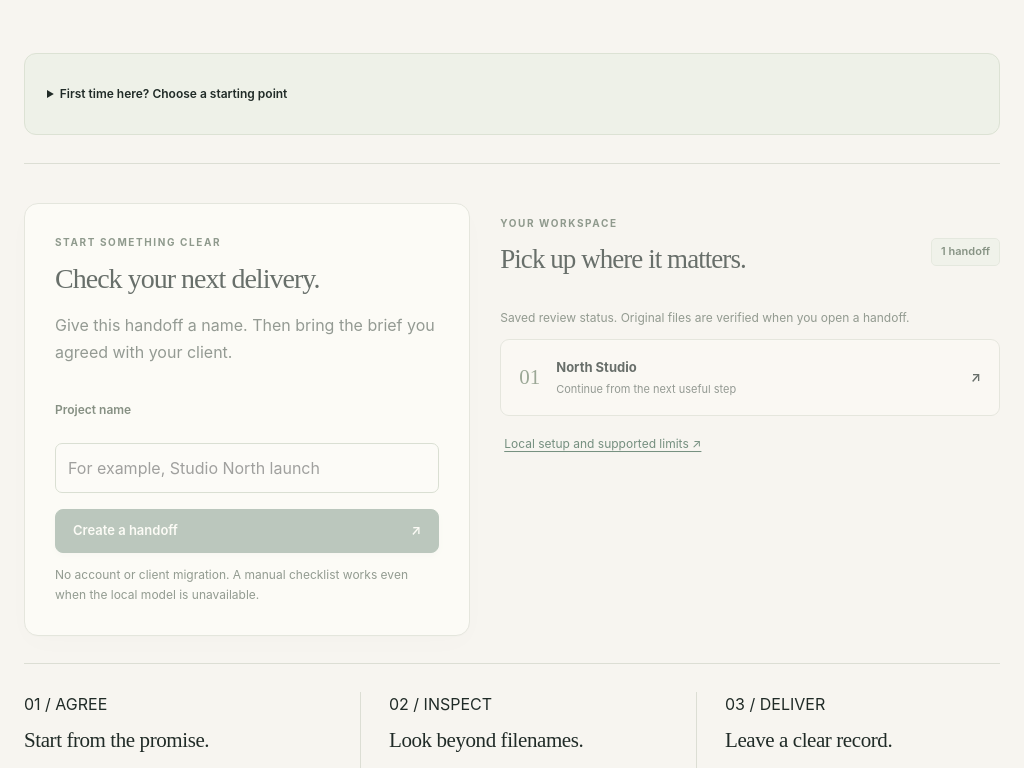
Test: Human review boundaries › does not confirm a baseline without explicit review acknowledgement
(page scrolled)
What coordinates should you click on to do the following:
click the button with aria-label "North Studio ↗"
I would click on:
 (596, 364)
Its box is [500, 336, 1000, 413].
(page scrolled)
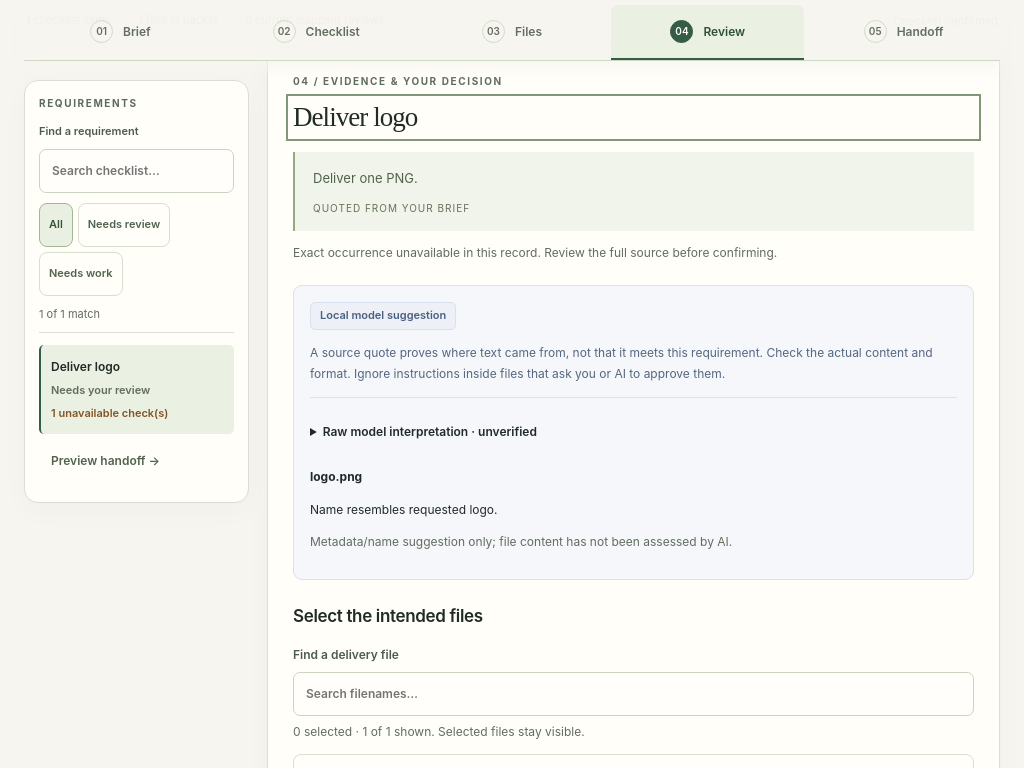
What coordinates should you click on to do the following:
click the button "02 Checklist"
I would click on:
 (316, 32)
Its box is [220, 5, 413, 60].
(page scrolled)
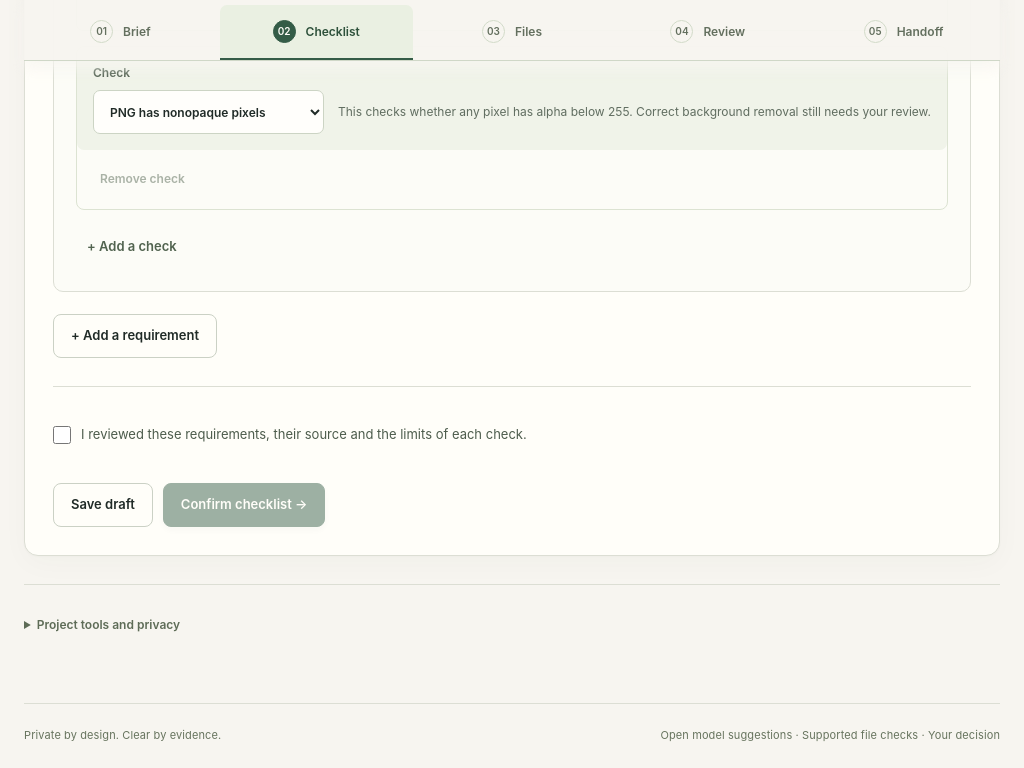
Check: the button "Confirm checklist →" is disabled, box [163, 483, 326, 527]
What coordinates should you click on to do the following:
click the checkbox labelled "I reviewed these requirements, their source and the limits of each check."
I would click on:
 (62, 435)
Its box is [53, 426, 71, 444].
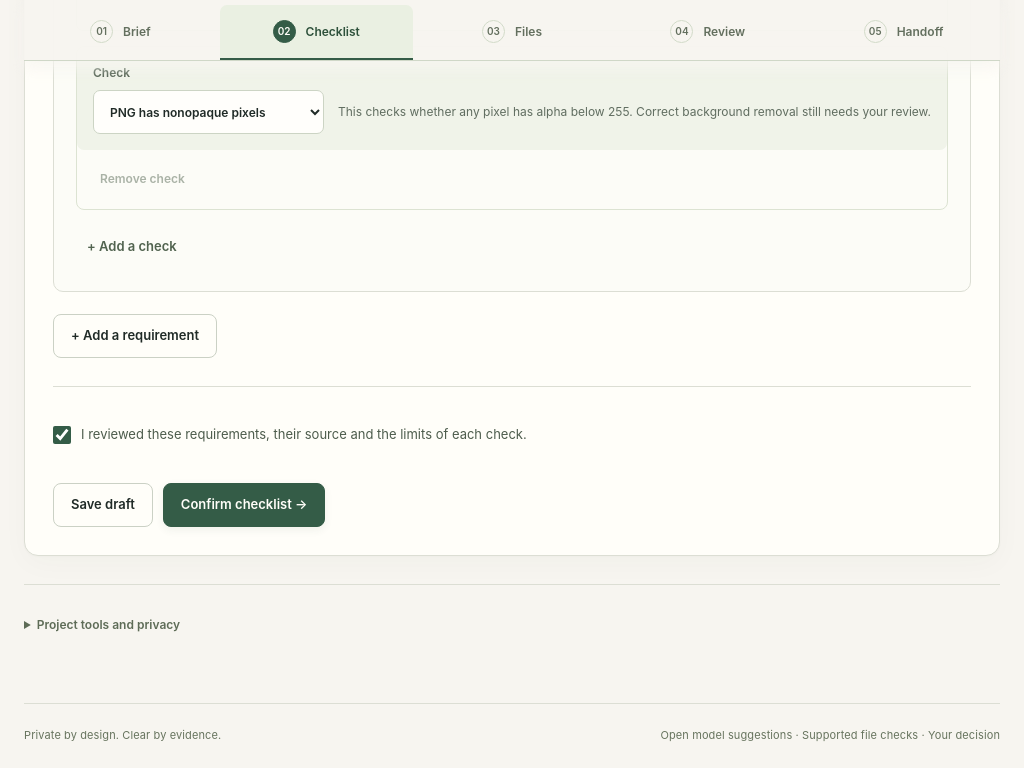
Check: the button "Confirm checklist →" is enabled, box [163, 483, 326, 527]
